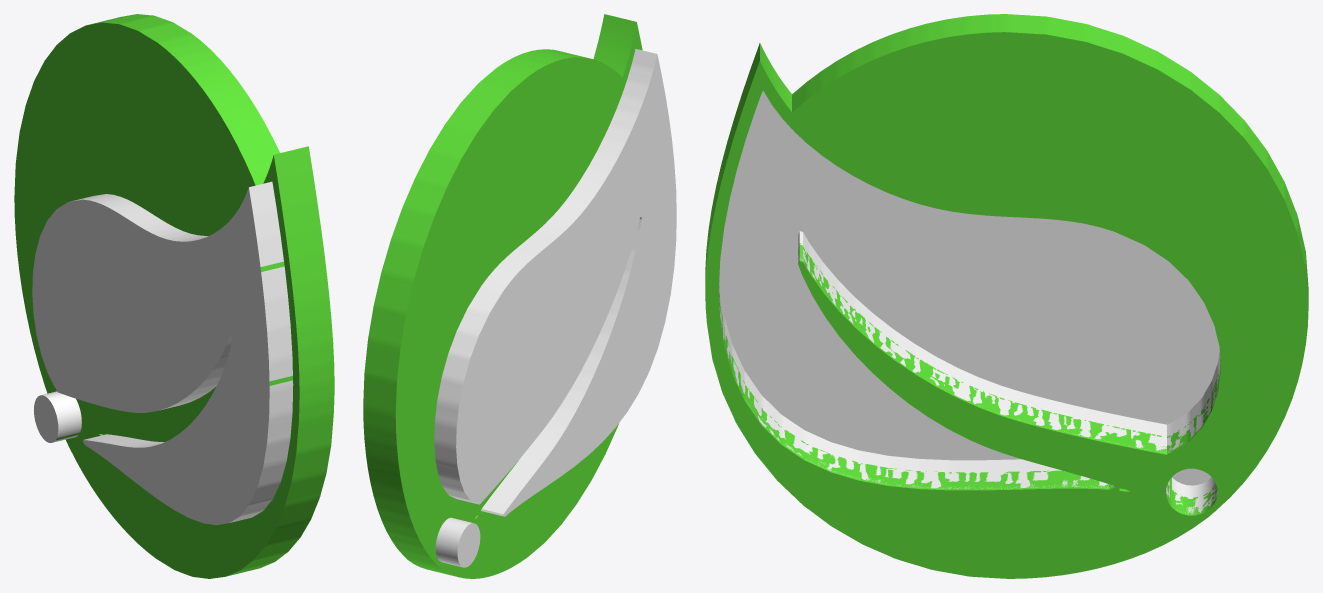
Rendered from spring2.glb.
3 views of the same model, side by side, from view 1: azimuth 30°, elevation 25°; view 2: azimuth 150°, elevation 25°; view 3: azimuth 270°, elevation 25° (orthographic). The views are drawn at different scales.
Parts seen in each view (by area): view 1: Curve; view 2: Curve; view 3: Curve.
Boxes of the visible parts, left/top/right/bottom form: Curve: left=14, top=14, right=334, bottom=578; Curve: left=363, top=14, right=676, bottom=578; Curve: left=705, top=14, right=1308, bottom=578.
Bounding box in the file's own units: 0.0837 × 0.7055 × 0.7053.
